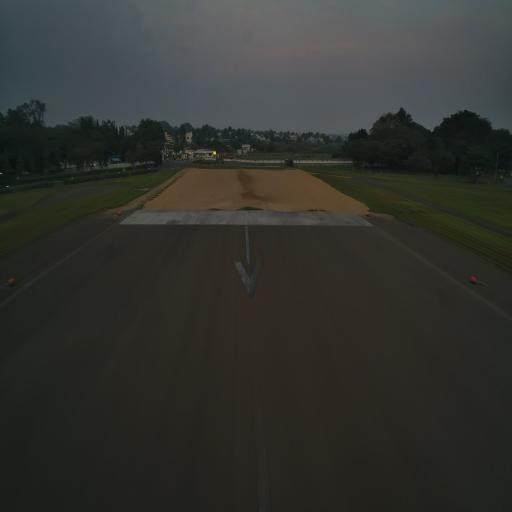on: (470, 272, 479, 286), (6, 276, 16, 287)
